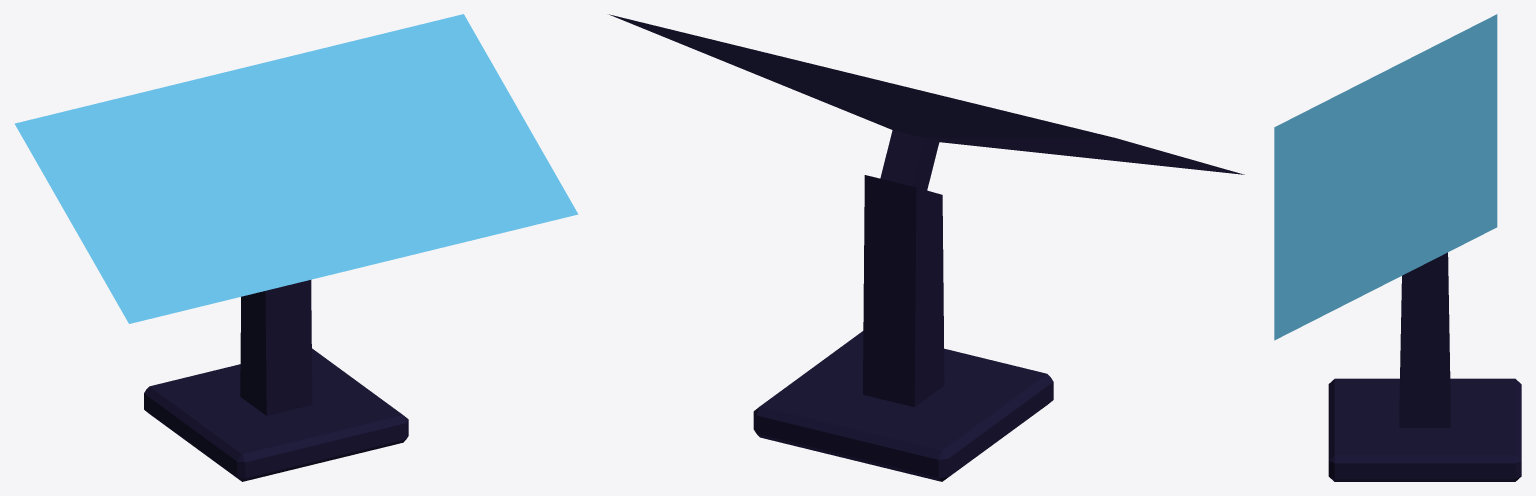
File: Anten3.fbx
The picture shows the model from 3 angles, left to right: view 1: azimuth 30°, elevation 25°; view 2: azimuth 150°, elevation 25°; view 3: azimuth 270°, elevation 25°; orthographic projection. The views are drawn at different scales.
Parts seen in each view (by area): view 1: Anten3; view 2: Anten3; view 3: Anten3.
Boxes of the visible parts, x1=… form: Anten3: x1=15, y1=14, x2=578, y2=481; Anten3: x1=609, y1=14, x2=1244, y2=481; Anten3: x1=1274, y1=14, x2=1521, y2=481.
Size of the model in its own units: 52.68 by 37.22 by 25.81.
